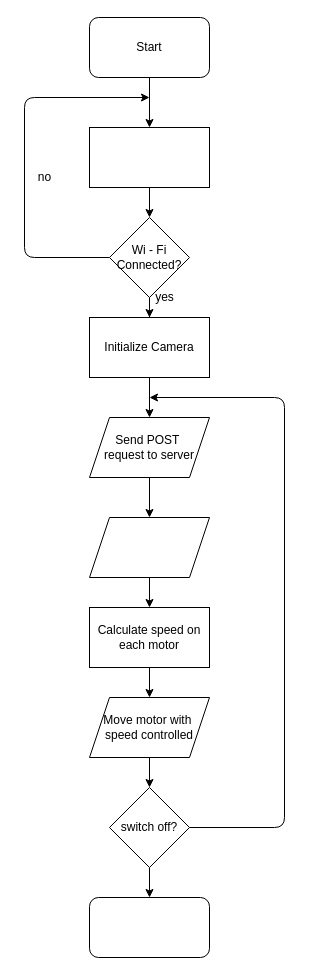
This 310x975 diagram has some shape labels left out. Here are the shapes that lost their labels. From the top down, the box of each, then its label:
(88, 126, 210, 188): Connect to Wi - Fi
(88, 516, 210, 578): Get Server Response ( degree )
(88, 896, 210, 958): END
